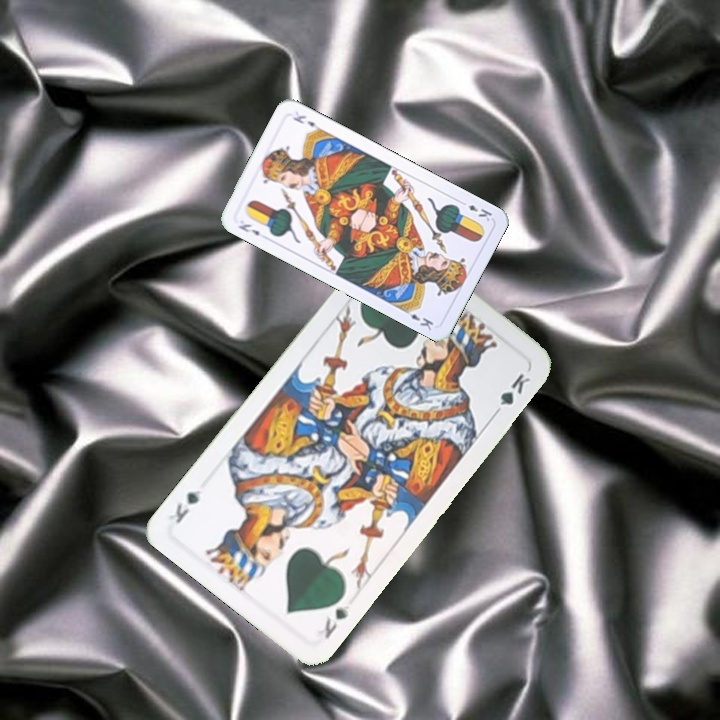EK: (456, 197, 495, 224), (234, 220, 262, 238)
GK: (320, 600, 353, 642)
